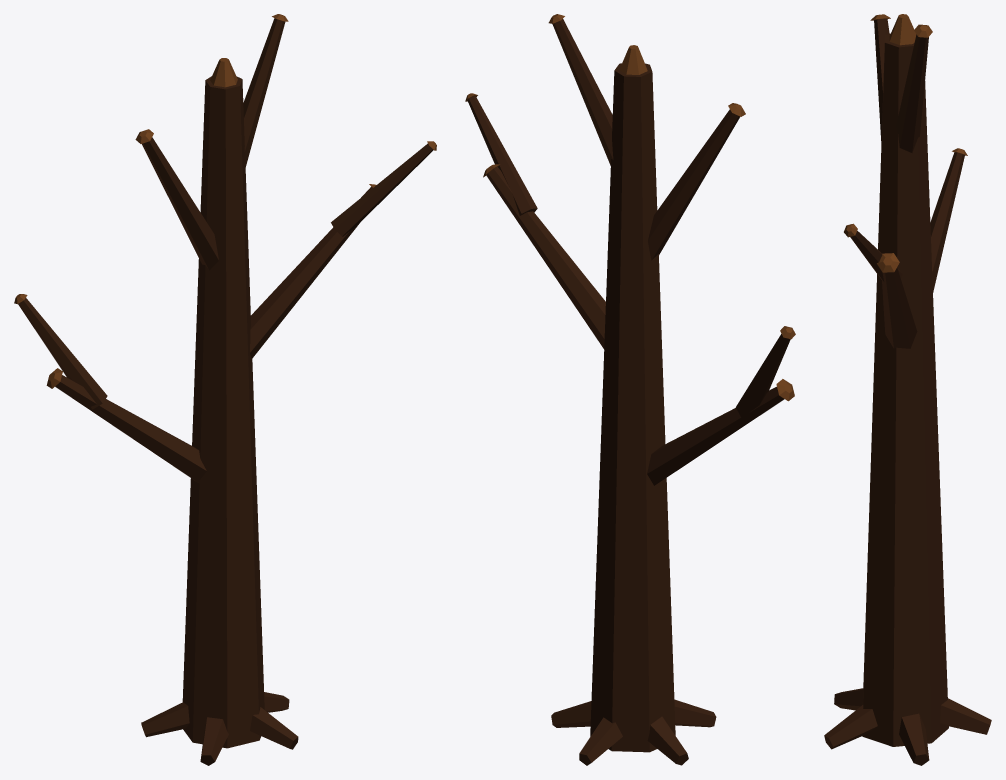
Rendered from dead_tree.obj.
3 views of the same model, side by side, from view 1: azimuth 30°, elevation 25°; view 2: azimuth 150°, elevation 25°; view 3: azimuth 270°, elevation 25° (orthographic). The views are drawn at different scales.
Parts seen in each view (by area): view 1: dead_tree_MODEL; view 2: dead_tree_MODEL; view 3: dead_tree_MODEL.
Part boxes in pixels (left/top/right/bottom): dead_tree_MODEL: left=14, top=14, right=436, bottom=765; dead_tree_MODEL: left=465, top=14, right=795, bottom=765; dead_tree_MODEL: left=824, top=14, right=991, bottom=765.
Size of the model in its own units: 3.57 by 6.44 by 1.32.
